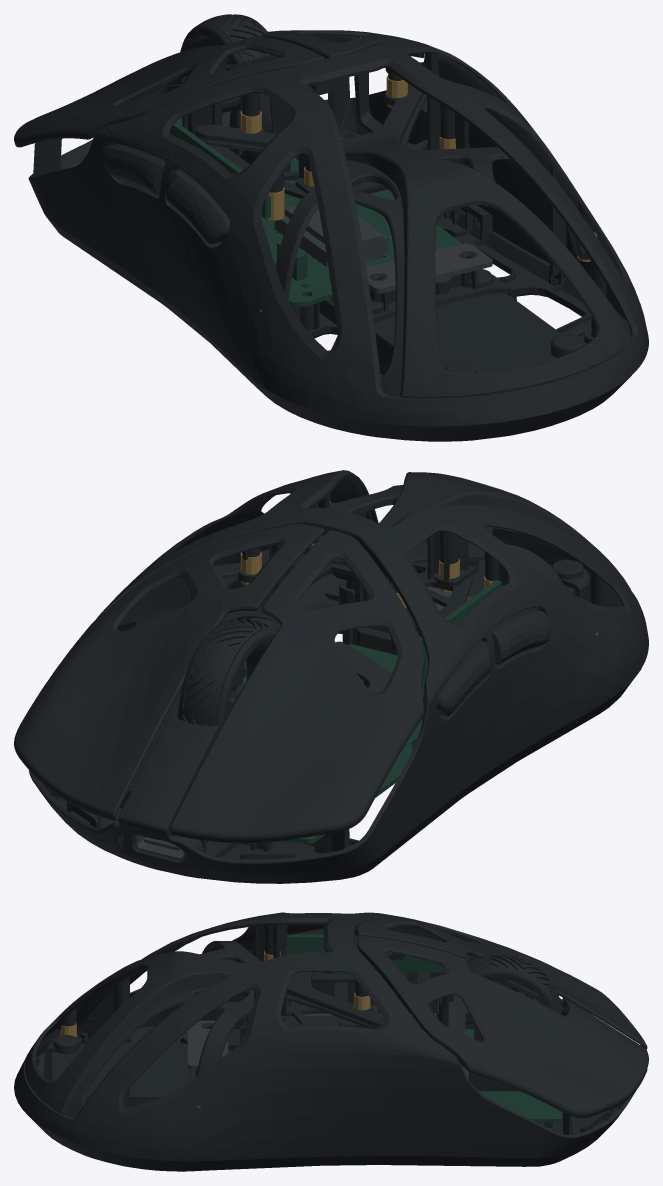
Rendered from tm00t-RfR3GT7g.glb.
3 views of the same model, one above another, from view 1: azimuth 30°, elevation 25°; view 2: azimuth 150°, elevation 25°; view 3: azimuth 270°, elevation 25° (orthographic). The views are drawn at different scales.
Visible parts, largest first — view 1: MouseSkeleton, InnerFrame, MouseBase, ButtonLeft, BatteryCover, MainPCB, ButtonRight, ButtonBack, MouseBatterySocketBody, ButtonForward, WheelTire, WheelCore (+3 smaller); view 2: MouseSkeleton, ButtonLeft, ButtonRight, MouseBase, InnerFrame, WheelCore, ButtonBack, WheelTire, ButtonForward, MainPCB, BatteryCover, SidePCB (+1 smaller); view 3: MouseSkeleton, ButtonRight, InnerFrame, MouseBase, ButtonLeft, BatteryCover, MainPCB, WheelCore, SidePCB, WheelTire, SideButtonSupport, MouseBatterySocketBody.
Part boxes in pixels (<box>): MouseSkeleton: <box>28,40,648,426</box>; InnerFrame: <box>192,83,631,398</box>; MouseBase: <box>47,81,631,441</box>; ButtonLeft: <box>14,36,463,198</box>; BatteryCover: <box>374,293,563,373</box>; MainPCB: <box>69,117,462,307</box>; ButtonRight: <box>226,30,470,192</box>; ButtonBack: <box>165,169,230,244</box>; MouseBatterySocketBody: <box>366,243,492,293</box>; ButtonForward: <box>102,143,165,194</box>; WheelTire: <box>178,17,268,163</box>; WheelCore: <box>197,14,272,164</box>; MouseSkeleton: <box>29,470,648,874</box>; ButtonLeft: <box>170,529,473,843</box>; ButtonRight: <box>14,524,420,820</box>; MouseBase: <box>58,560,631,883</box>; InnerFrame: <box>215,472,631,636</box>; WheelCore: <box>180,619,274,725</box>; ButtonBack: <box>492,607,550,664</box>; WheelTire: <box>178,621,277,730</box>; ButtonForward: <box>423,640,492,716</box>; MainPCB: <box>120,644,424,844</box>; BatteryCover: <box>352,560,575,655</box>; SidePCB: <box>390,580,502,685</box>; MouseSkeleton: <box>14,912,648,1161</box>; ButtonRight: <box>283,935,647,1117</box>; InnerFrame: <box>25,941,384,1117</box>; MouseBase: <box>14,993,612,1171</box>; ButtonLeft: <box>291,917,647,1049</box>; BatteryCover: <box>50,1043,231,1106</box>; MainPCB: <box>422,1029,576,1122</box>; WheelCore: <box>436,955,562,1067</box>; SidePCB: <box>286,934,443,973</box>; WheelTire: <box>439,954,558,1066</box>; SideButtonSupport: <box>244,972,435,1026</box>; MouseBatterySocketBody: <box>187,1020,228,1069</box>.
Size of the model in its own units: 0.0638 by 0.0386 by 0.1254.
